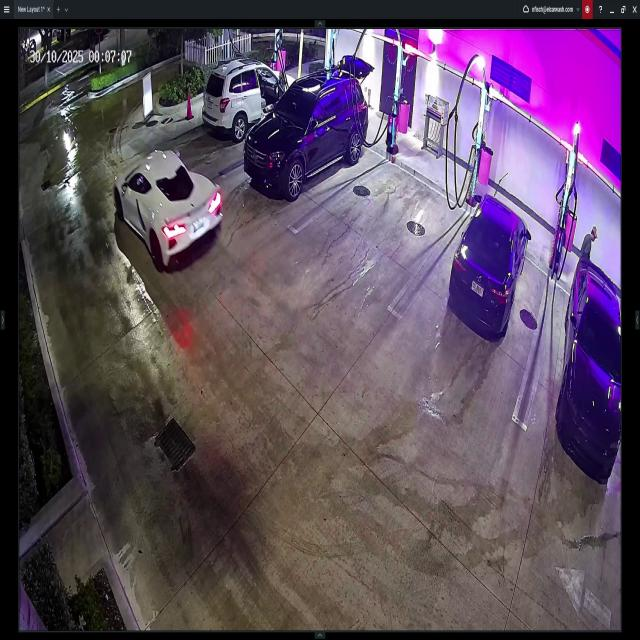Car: (245, 72, 368, 199), (556, 259, 622, 476), (114, 147, 224, 270), (452, 194, 530, 340), (203, 59, 294, 142)
